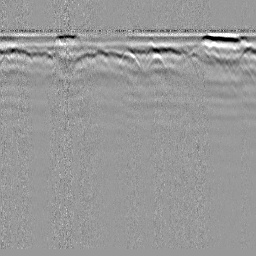cavity: (116, 47, 142, 70)
